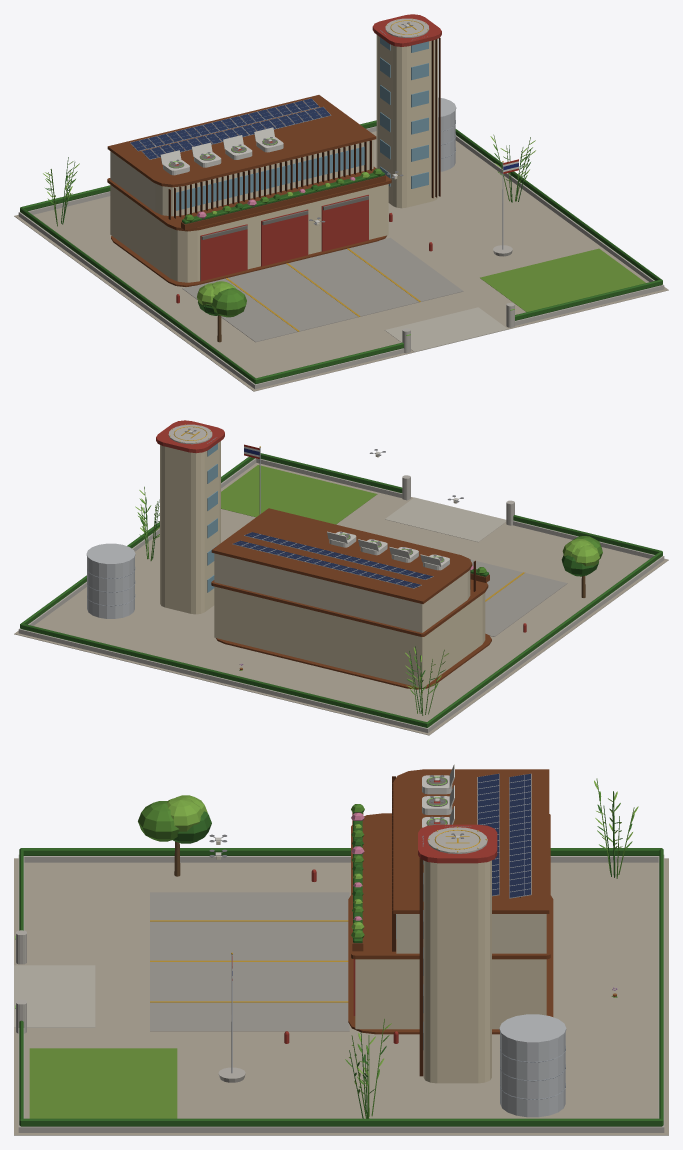
Rendered from fire.glb.
3 renders of one model, top to bottom at view 1: azimuth 30°, elevation 25°; view 2: azimuth 150°, elevation 25°; view 3: azimuth 270°, elevation 25°, orthographic. The views are drawn at different scales.
Visible parts, largest first — view 1: body; view 2: body; view 3: body.
Boxes of the visible parts, bbox=[...] form: body: bbox=[14, 14, 668, 391]; body: bbox=[14, 420, 668, 735]; body: bbox=[14, 764, 668, 1135].
Bounding box in the file's own units: 47.9 × 19.04 × 47.9.
